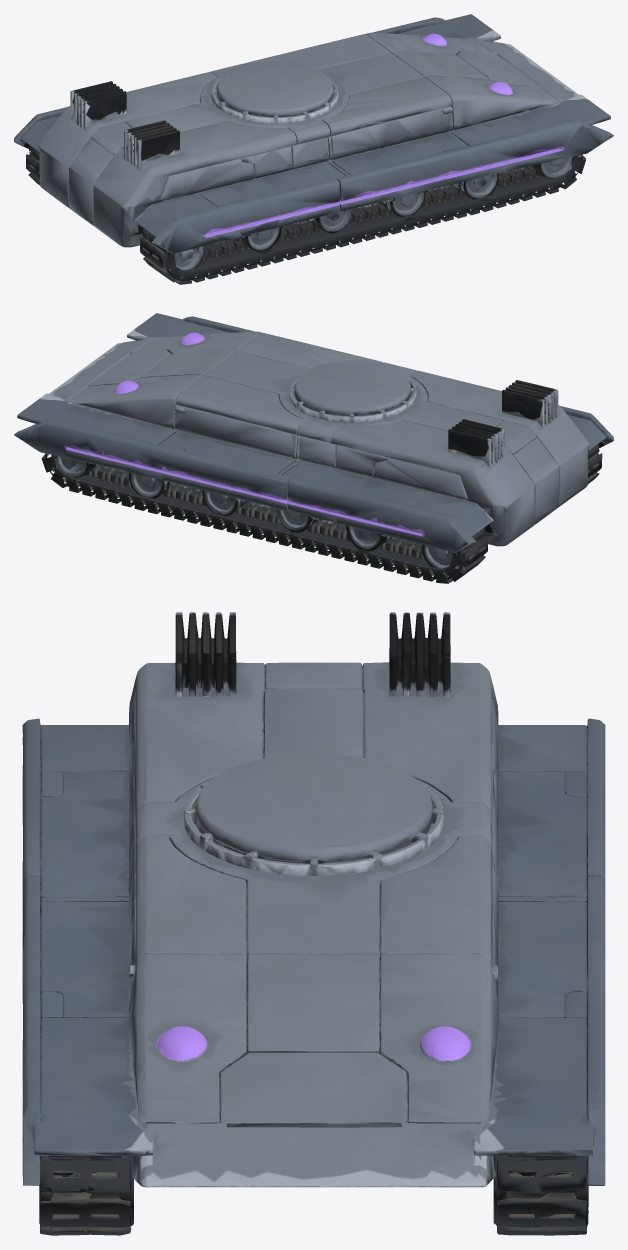
The model's file is chassis-scout-1-full.glb.
3 renders of one model, top to bottom at view 1: azimuth 30°, elevation 25°; view 2: azimuth 150°, elevation 25°; view 3: azimuth 270°, elevation 25°, orthographic. The views are drawn at different scales.
Parts seen in each view (by area): view 1: chassis-scout-1-full; view 2: chassis-scout-1-full; view 3: chassis-scout-1-full.
Boxes of the visible parts, x1,y1,x2,y2 form: chassis-scout-1-full: (14, 14, 613, 284); chassis-scout-1-full: (14, 313, 613, 583); chassis-scout-1-full: (22, 612, 605, 1235).
Bounding box in the file's own units: 2.04 × 0.5082 × 1.09.
Materials: 1 (1 with a texture image).
